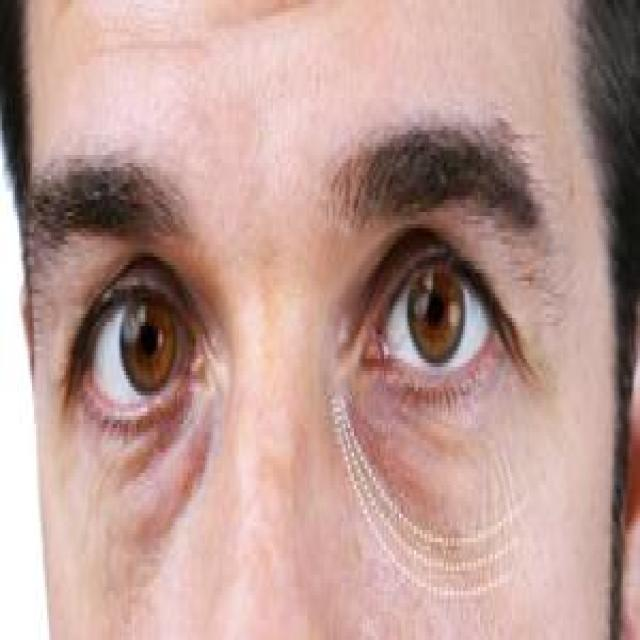low: (66, 428, 228, 503), (337, 394, 514, 458)
